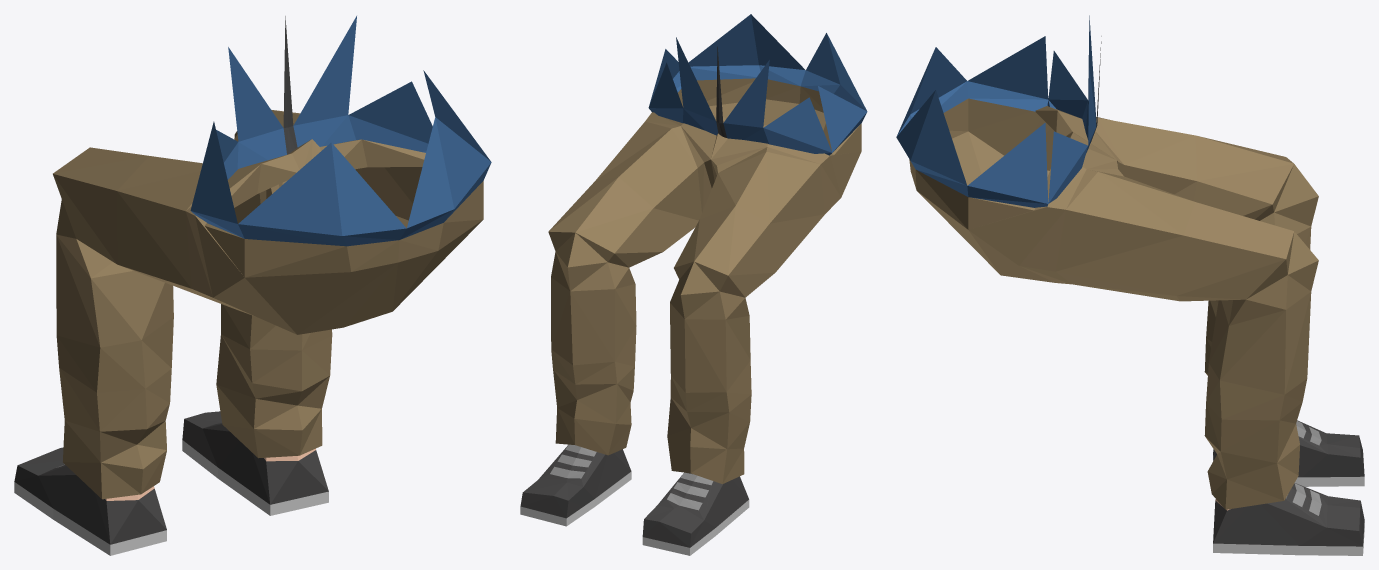
The model's file is Son_01_Legs_79_02_A.obj.
3 views of the same model, side by side, from view 1: azimuth 30°, elevation 25°; view 2: azimuth 150°, elevation 25°; view 3: azimuth 270°, elevation 25° (orthographic). The views are drawn at different scales.
Parts seen in each view (by area): view 1: Son_01_Legs_79_02_A; view 2: Son_01_Legs_79_02_A; view 3: Son_01_Legs_79_02_A.
Part boxes in pixels (left/top/right/bottom): Son_01_Legs_79_02_A: left=14, top=16, right=491, bottom=555; Son_01_Legs_79_02_A: left=520, top=14, right=867, bottom=555; Son_01_Legs_79_02_A: left=896, top=15, right=1364, bottom=555.
Size of the model in its own units: 0.365 by 0.7748 by 0.6897.
Materials: 1 (1 with a texture image).
